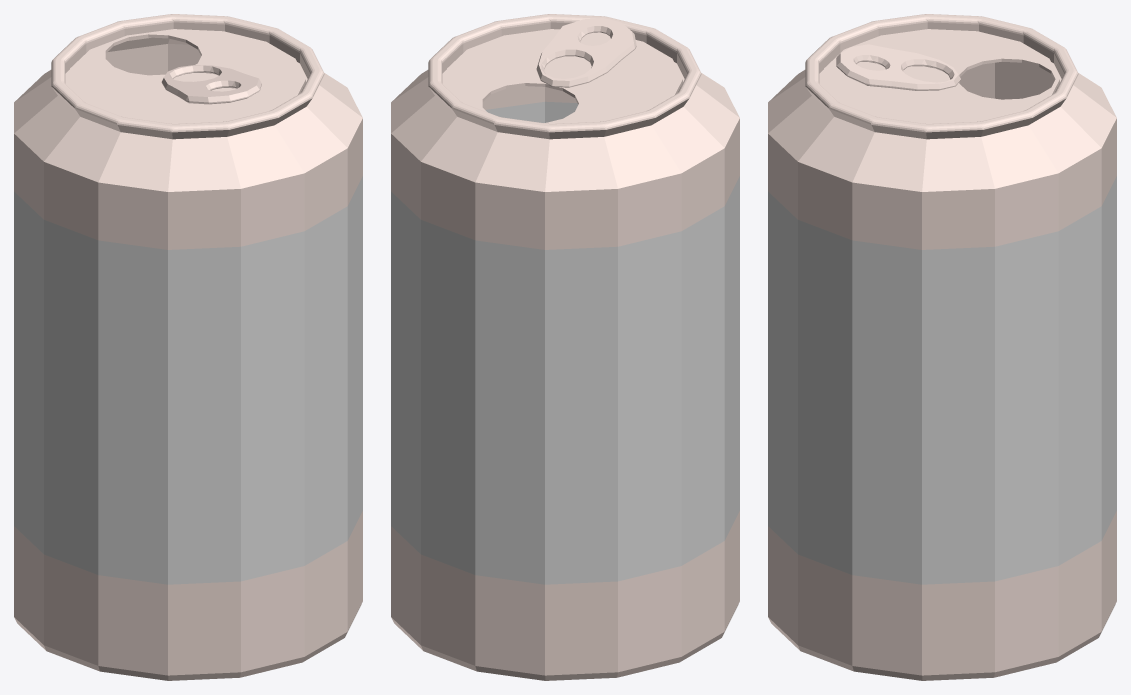
File: Can.fbx
3 renders of one model, left to right at view 1: azimuth 30°, elevation 25°; view 2: azimuth 150°, elevation 25°; view 3: azimuth 270°, elevation 25°, orthographic.
Parts seen in each view (by area): view 1: Cylinder.001, Cylinder.002; view 2: Cylinder.001, Cylinder.002; view 3: Cylinder.001, Cylinder.002.
Part boxes in pixels (<box>): Cylinder.001: <box>14,14,362,680</box>; Cylinder.002: <box>161,65,261,104</box>; Cylinder.001: <box>391,14,739,680</box>; Cylinder.002: <box>536,18,636,87</box>; Cylinder.001: <box>768,14,1116,680</box>; Cylinder.002: <box>836,44,960,90</box>.
Size of the model in its own units: 67.26 by 117 by 66.89.
